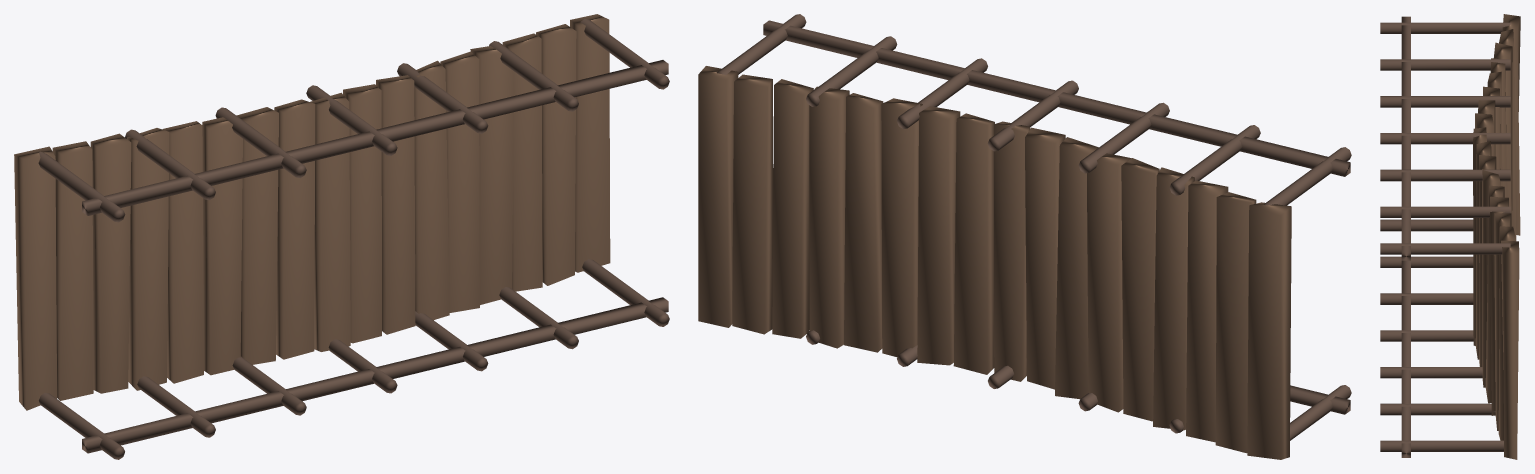
Rendered from wooden_bridge_hd.glb.
The picture shows the model from 3 angles, left to right: view 1: azimuth 30°, elevation 25°; view 2: azimuth 150°, elevation 25°; view 3: azimuth 270°, elevation 25°; orthographic projection. The views are drawn at different scales.
Size of the model in its own units: 6.46 by 2.65 by 1.61.
